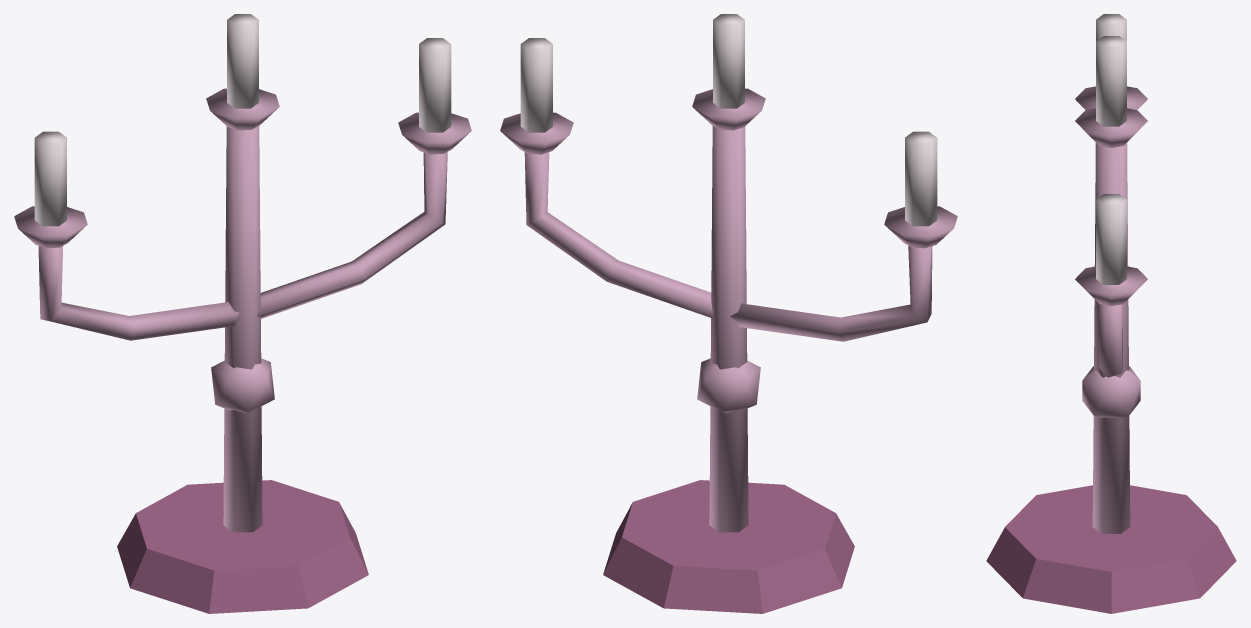
Rendered from pink_dungeon_candelabra_v0.glb.
3 renders of one model, left to right at view 1: azimuth 30°, elevation 25°; view 2: azimuth 150°, elevation 25°; view 3: azimuth 270°, elevation 25°, orthographic. The views are drawn at different scales.
Parts seen in each view (by area): view 1: pink_dungeon_candelabra_v0; view 2: pink_dungeon_candelabra_v0; view 3: pink_dungeon_candelabra_v0.
Part boxes in pixels (x1,y1,x2,y2): pink_dungeon_candelabra_v0: [14, 14, 471, 613]; pink_dungeon_candelabra_v0: [500, 14, 957, 613]; pink_dungeon_candelabra_v0: [986, 14, 1236, 613].
Size of the model in its own units: 0.797 by 0.915 by 0.4.
